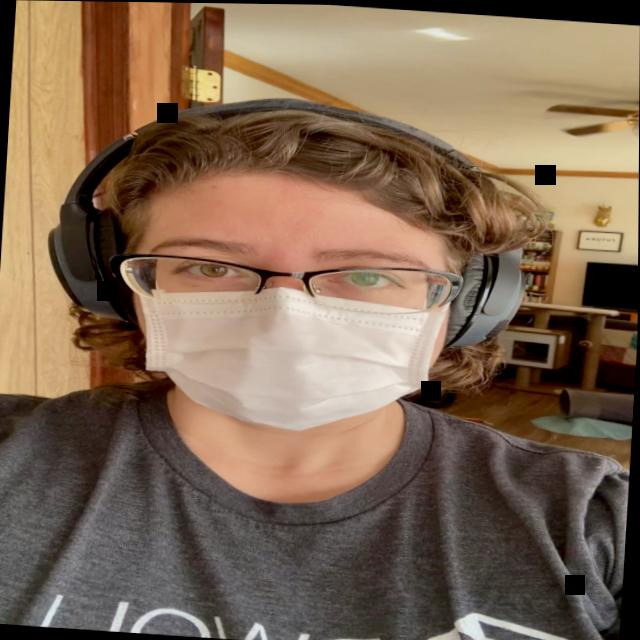Mask: (118, 165, 472, 441)
